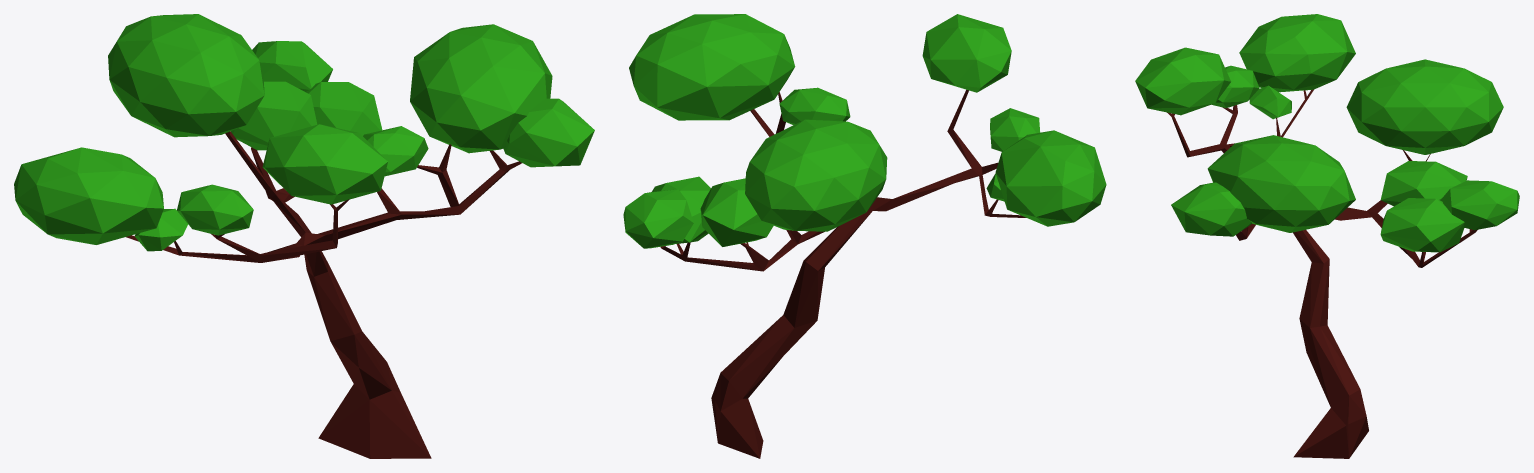
File: mytree2.1.obj
3 renders of one model, left to right at view 1: azimuth 30°, elevation 25°; view 2: azimuth 150°, elevation 25°; view 3: azimuth 270°, elevation 25°, orthographic. The views are drawn at different scales.
Visible parts, largest first — view 1: Icosphere.004; view 2: Icosphere.004; view 3: Icosphere.004.
Part boxes in pixels (x1,y1,x2,y2): Icosphere.004: (14, 14, 594, 458); Icosphere.004: (623, 14, 1106, 458); Icosphere.004: (1135, 14, 1519, 458).
Size of the model in its own units: 20.48 by 16.41 by 16.87.
